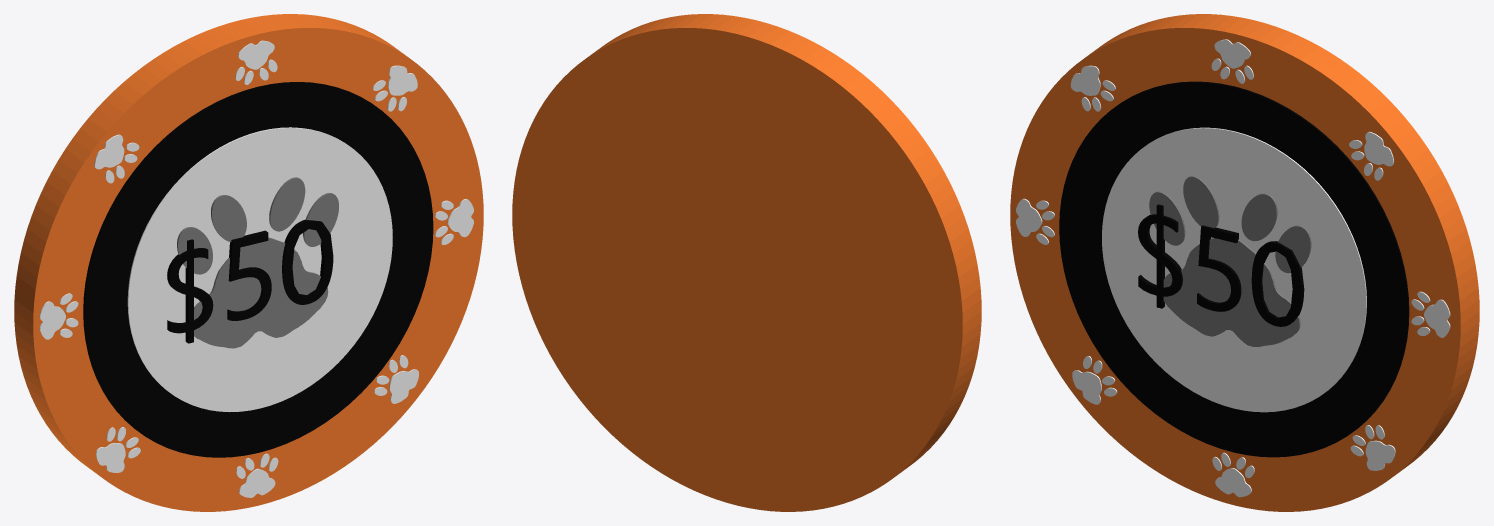
The model's file is Orange paw chip.fbx.
3 views of the same model, side by side, from view 1: azimuth 30°, elevation 25°; view 2: azimuth 150°, elevation 25°; view 3: azimuth 330°, elevation 25° (orthographic).
Visible parts, largest first — view 1: root (×2), node_id4, node_id258, node_id338, node_id260, node_id215, node_id220, node_id242, node_id161, node_id192, node_id226, node_id231 (+1 smaller); view 2: node_id4; view 3: root (×2), node_id4, node_id258, node_id338, node_id260, node_id226, node_id231, node_id220, node_id215, node_id192, node_id237, node_id161 (+1 smaller).
Part boxes in pixels (left/top/right/bottom): root (×2): left=83, top=82, right=433, bottom=457; node_id4: left=14, top=14, right=483, bottom=511; node_id258: left=194, top=237, right=328, bottom=348; node_id338: left=167, top=219, right=333, bottom=343; node_id260: left=177, top=177, right=338, bottom=274; node_id215: left=94, top=134, right=124, bottom=169; node_id220: left=389, top=369, right=419, bottom=403; node_id242: left=39, top=301, right=65, bottom=339; node_id161: left=239, top=468, right=275, bottom=497; node_id192: left=238, top=40, right=274, bottom=69; node_id226: left=388, top=65, right=417, bottom=95; node_id231: left=95, top=443, right=125, bottom=472; node_id4: left=512, top=14, right=981, bottom=511; root (×2): left=1059, top=81, right=1409, bottom=457; node_id4: left=1010, top=14, right=1479, bottom=511; node_id258: left=1163, top=238, right=1300, bottom=346; node_id338: left=1138, top=204, right=1304, bottom=326; node_id260: left=1149, top=176, right=1311, bottom=273; node_id226: left=1364, top=131, right=1394, bottom=166; node_id231: left=1072, top=370, right=1101, bottom=404; node_id220: left=1365, top=440, right=1395, bottom=470; node_id215: left=1070, top=65, right=1100, bottom=95; node_id192: left=1214, top=39, right=1250, bottom=68; node_id237: left=1424, top=299, right=1450, bottom=337; node_id161: left=1215, top=468, right=1251, bottom=497.
Size of the model in its own units: 0.5155 by 0.5155 by 0.0463.
Materials: 8 (5 with a texture image).
